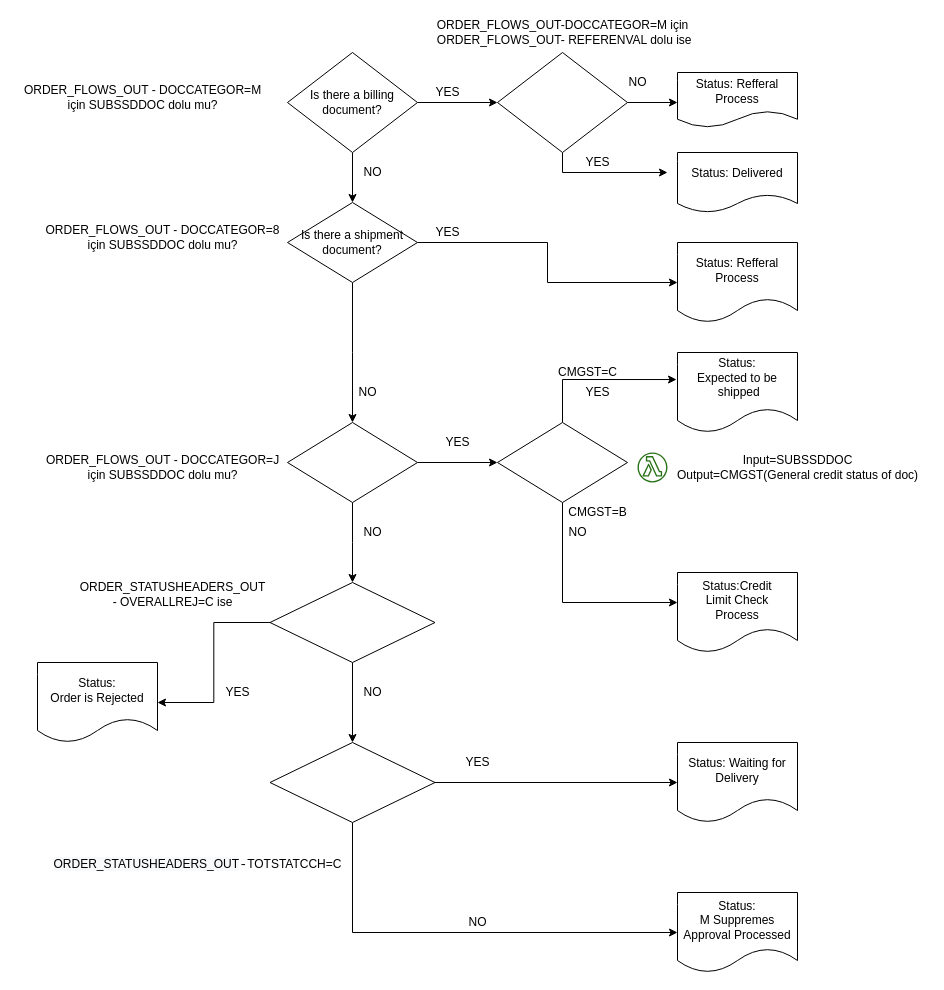
The diagram is 944 pixels wide and 990 high, and some of its shapes have lost their labels. Each missing label, with the centre of its shape:
Has document net value?: the point at 562,102
Is Credit Check okey for delivery doc?: the point at 562,462
Is credit check okey for sales order?: the point at 352,782
Is there a delivery document?: the point at 352,462
The order has a reject reason?: the point at 352,622
